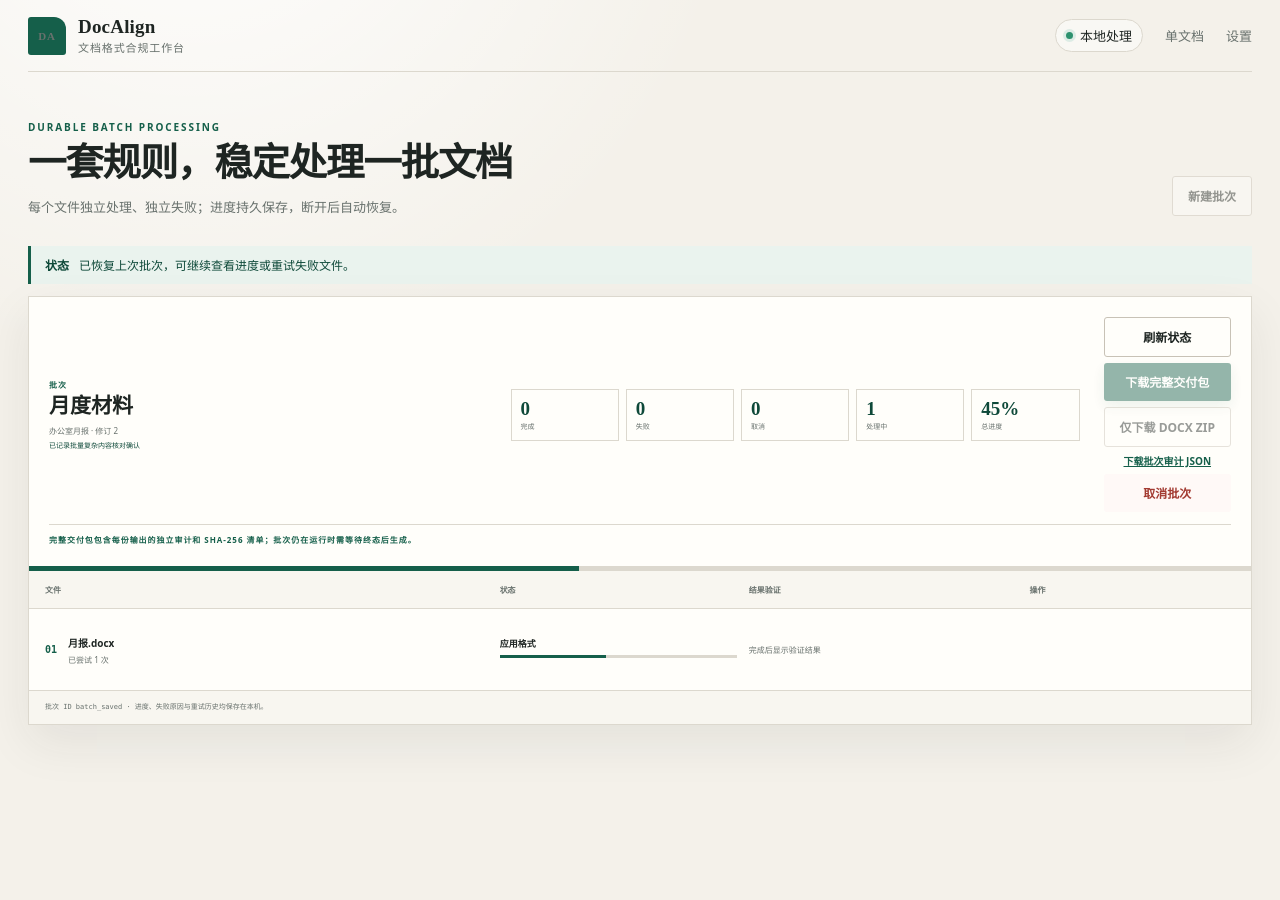
Test: BatchWorkspace › confirms cancellation and terminal local-data deletion
Click the button "取消批次" at (1167, 493), box [1104,474,1231,512]
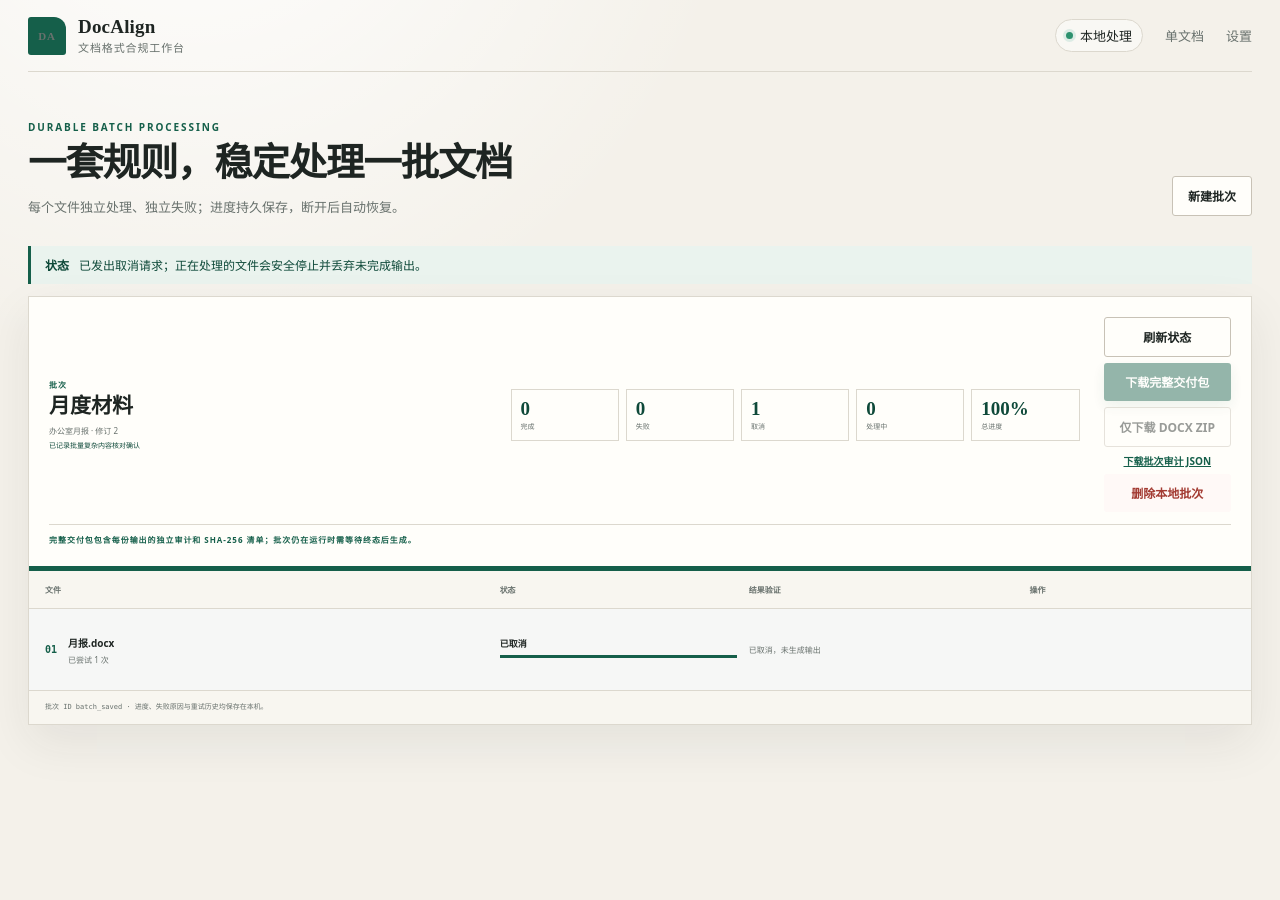
Check: the text "已取消，未生成输出" is shown, box [749,644,821,655]
Click the button "删除本地批次" at (1167, 493), box [1104,474,1231,512]
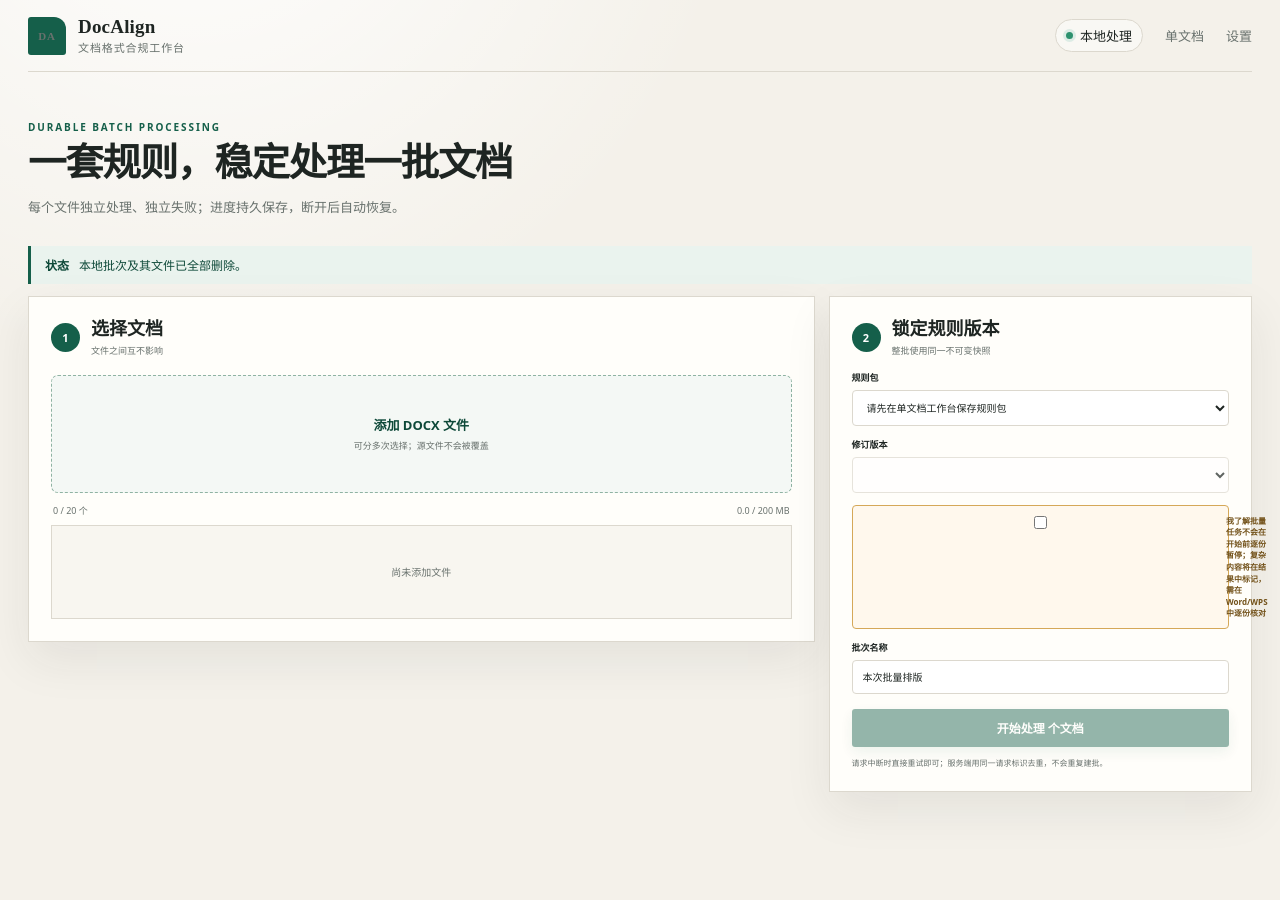
Check: the text "状态 本地批次及其文件已全部删除。" is shown, box [28,246,1252,284]
